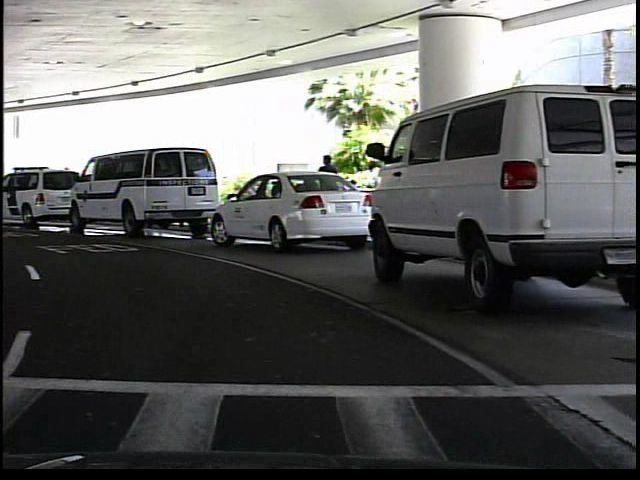person: (314, 150, 343, 230), (345, 175, 363, 228)
